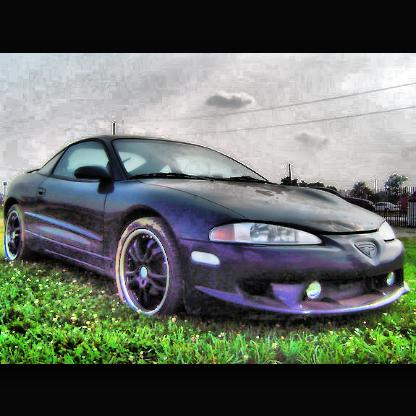Eagle Talon Hatchback 1998: (5, 135, 412, 328)
